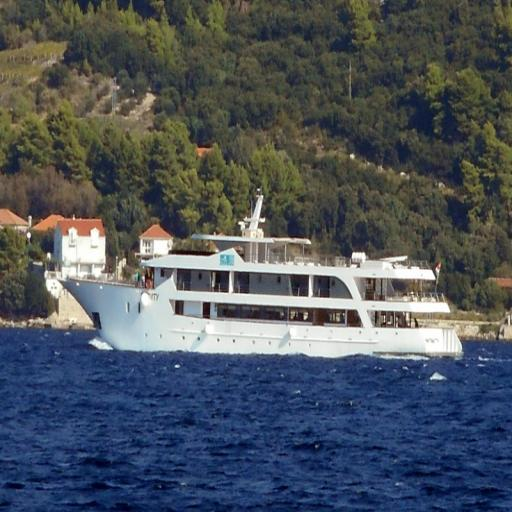cruises: (62, 191, 468, 370)
